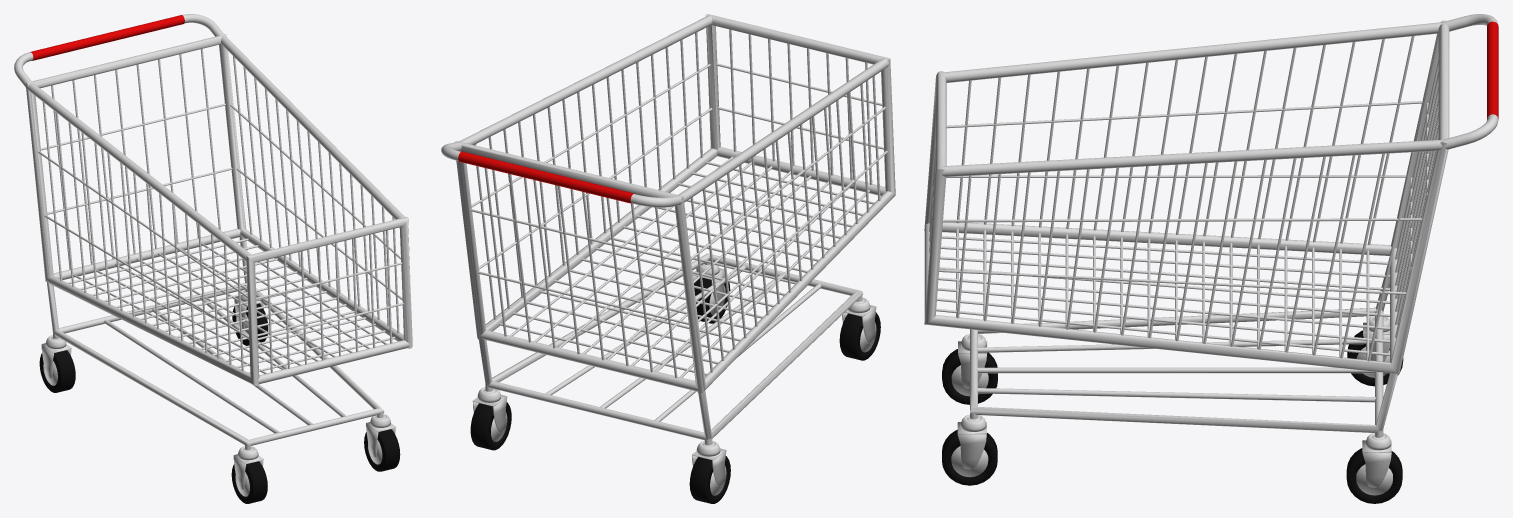
File: Cart.FBX
3 renders of one model, left to right at view 1: azimuth 30°, elevation 25°; view 2: azimuth 150°, elevation 25°; view 3: azimuth 270°, elevation 25°, orthographic. The views are drawn at different scales.
Visible parts, largest first — view 1: Grid, Front_Right_Wheel, Front_Left_Wheel, Rear_Right_Wheel, Handle, Rear_Left_Wheel; view 2: Grid, Rear_Left_Wheel, Rear_Right_Wheel, Handle, Front_Right_Wheel, Front_Left_Wheel; view 3: Grid, Rear_Left_Wheel, Front_Left_Wheel, Front_Right_Wheel, Rear_Right_Wheel, Handle.
Boxes of the visible parts, x1=… form: Grid: x1=14, y1=14, x2=412, y2=450; Front_Right_Wheel: x1=231, y1=446, x2=267, y2=503; Front_Left_Wheel: x1=364, y1=414, x2=400, y2=471; Rear_Right_Wheel: x1=39, y1=335, x2=75, y2=392; Handle: x1=31, y1=15, x2=184, y2=60; Rear_Left_Wheel: x1=232, y1=289, x2=268, y2=345; Grid: x1=441, y1=14, x2=895, y2=445; Rear_Left_Wheel: x1=470, y1=387, x2=511, y2=450; Rear_Right_Wheel: x1=689, y1=441, x2=730, y2=503; Handle: x1=458, y1=151, x2=634, y2=203; Front_Right_Wheel: x1=839, y1=297, x2=880, y2=360; Front_Left_Wheel: x1=692, y1=264, x2=730, y2=323; Grid: x1=924, y1=14, x2=1498, y2=437; Rear_Left_Wheel: x1=1346, y1=433, x2=1402, y2=503; Front_Left_Wheel: x1=942, y1=414, x2=997, y2=485; Front_Right_Wheel: x1=942, y1=334, x2=997, y2=404; Rear_Right_Wheel: x1=1347, y1=316, x2=1403, y2=386; Handle: x1=1487, y1=21, x2=1498, y2=119.
Size of the model in its own units: 0.8986 by 1.21 by 1.69.
